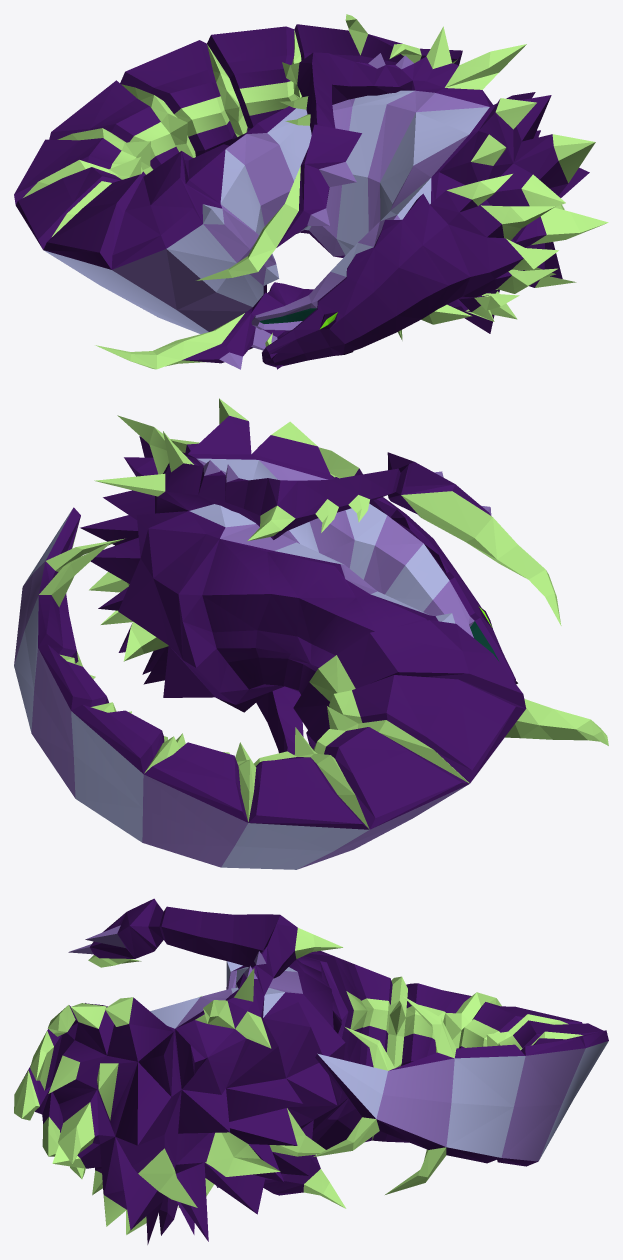
File: Dead (36).obj
3 renders of one model, top to bottom at view 1: azimuth 30°, elevation 25°; view 2: azimuth 150°, elevation 25°; view 3: azimuth 270°, elevation 25°, orthographic. The views are drawn at different scales.
Parts seen in each view (by area): view 1: Alien_Serpent; view 2: Alien_Serpent; view 3: Alien_Serpent.
Boxes of the visible parts, box(x1,y1,x2,y2) form: Alien_Serpent: box(14, 14, 608, 369); Alien_Serpent: box(14, 398, 608, 869); Alien_Serpent: box(14, 898, 608, 1244).
Bounding box in the file's own units: 232 × 141 × 246.
Materials: 1 (1 with a texture image).
